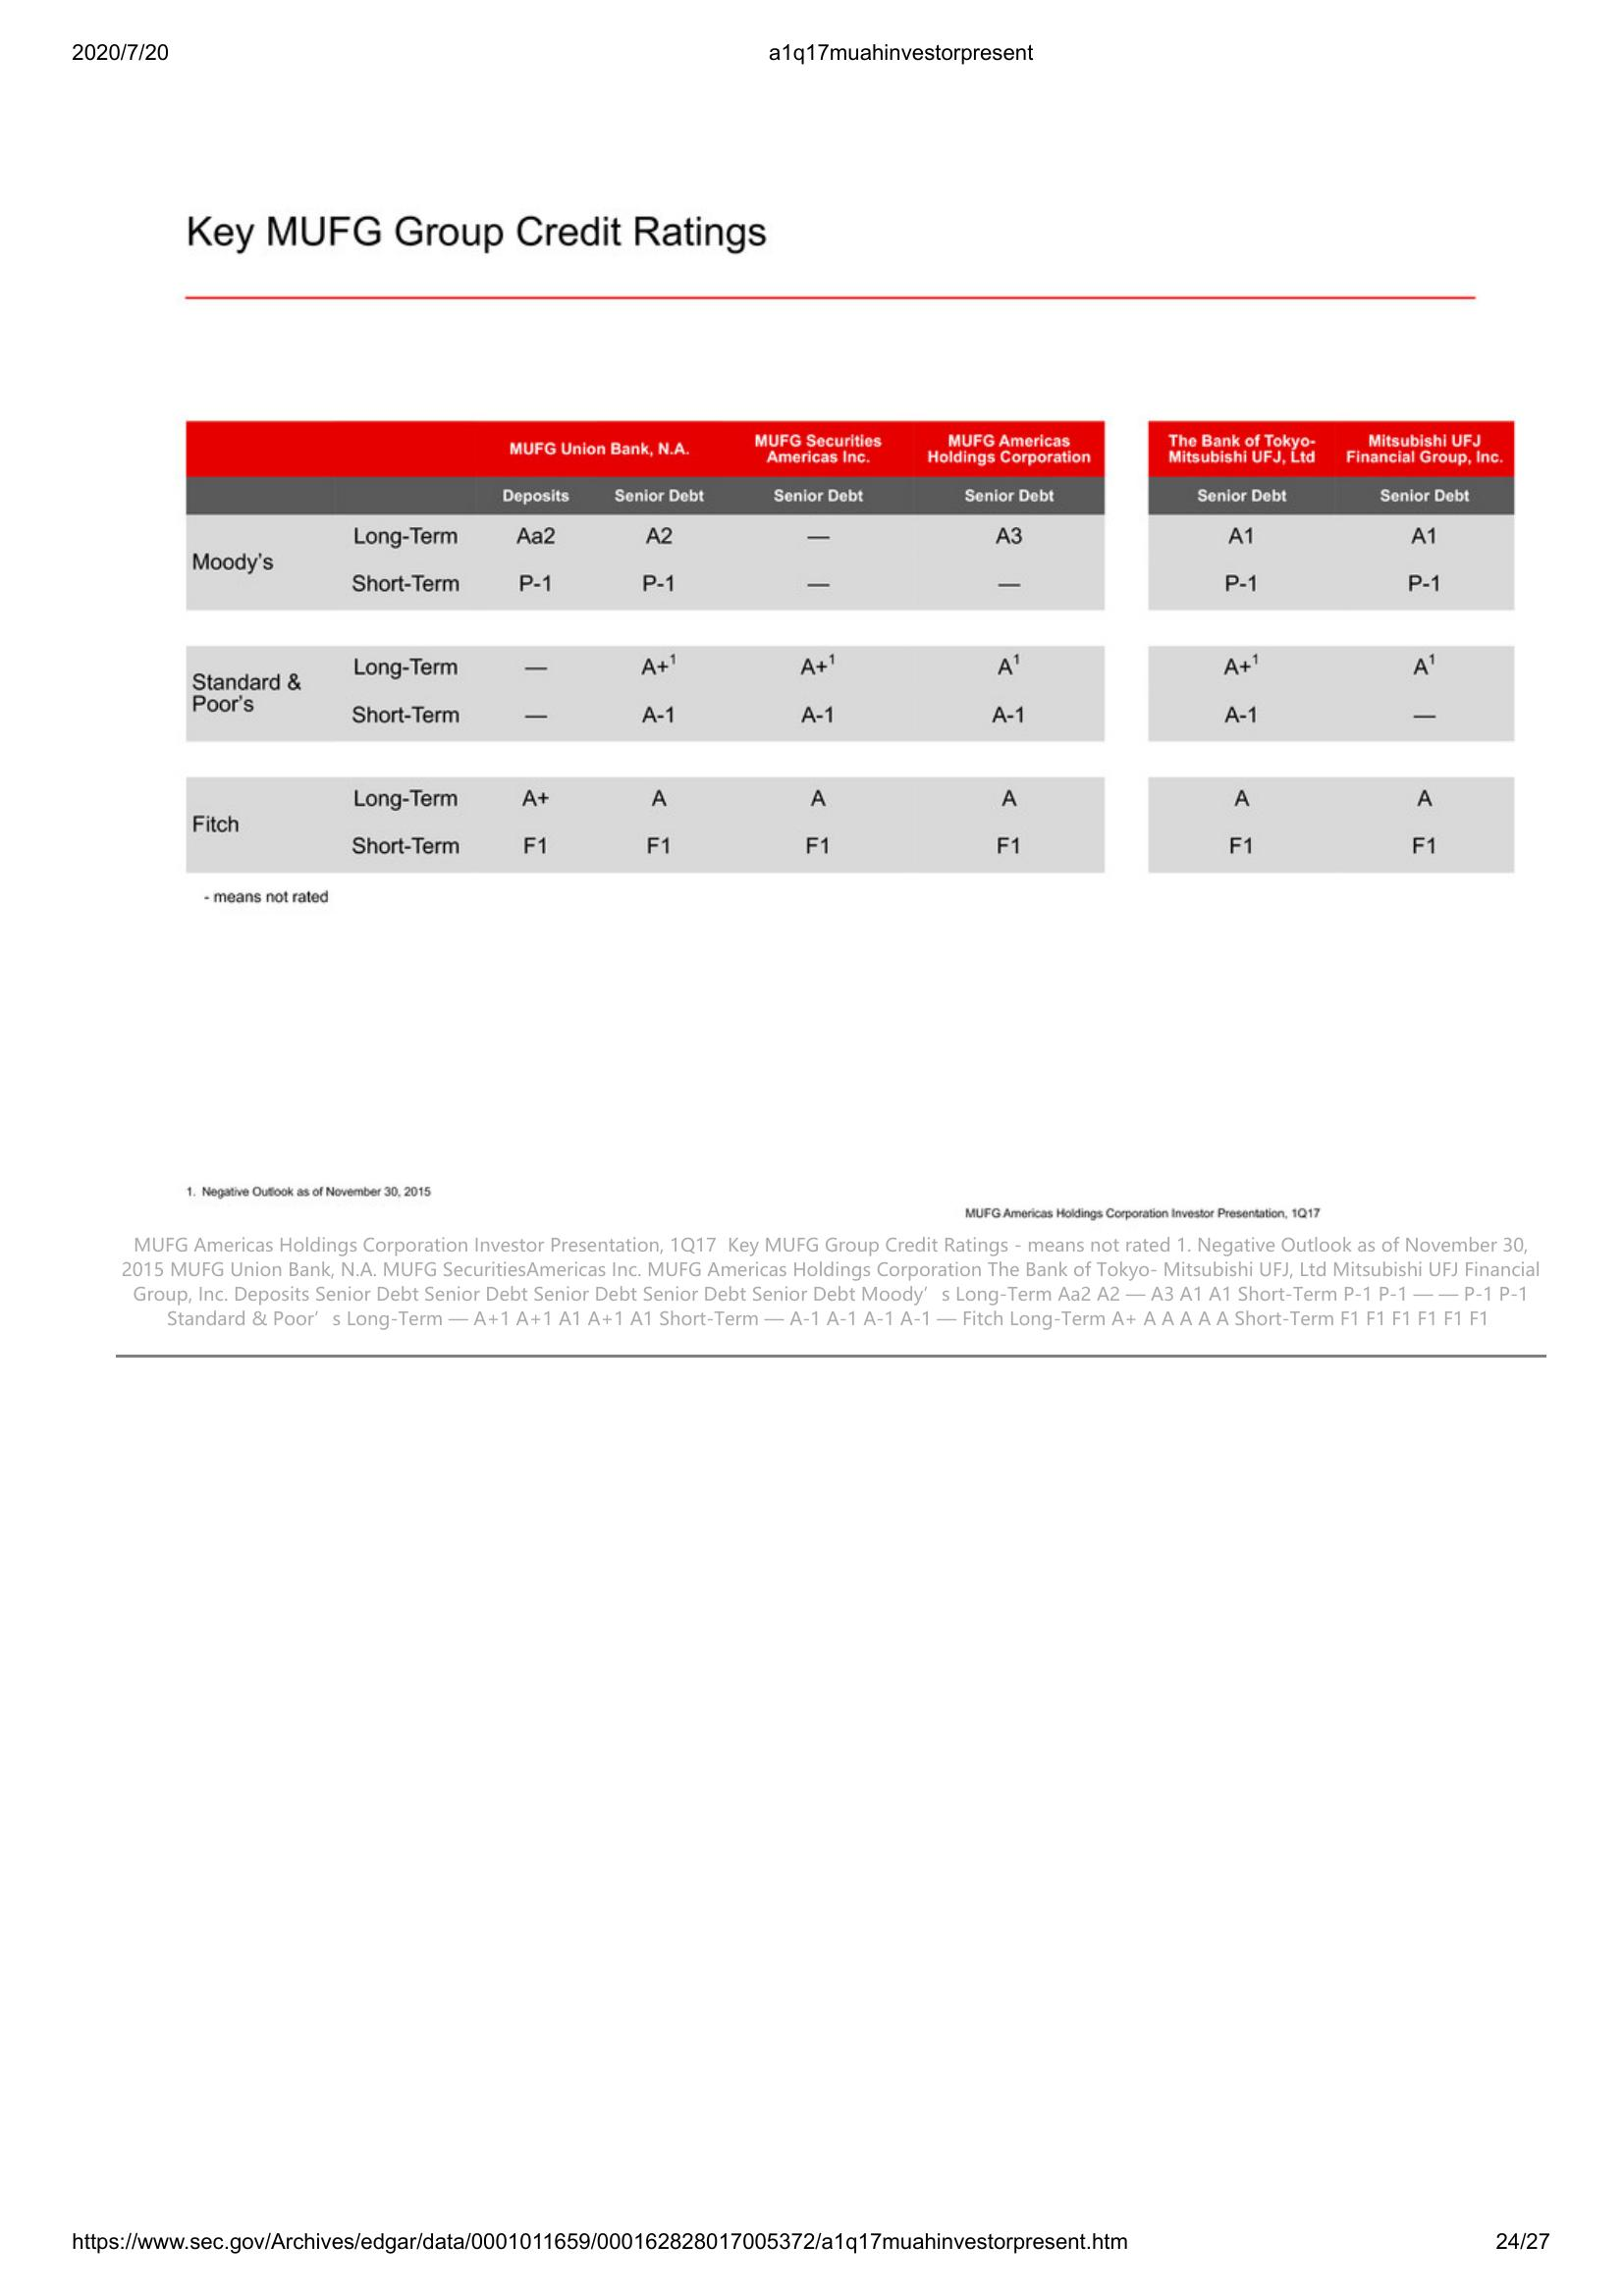table: (177, 413, 1521, 883)
